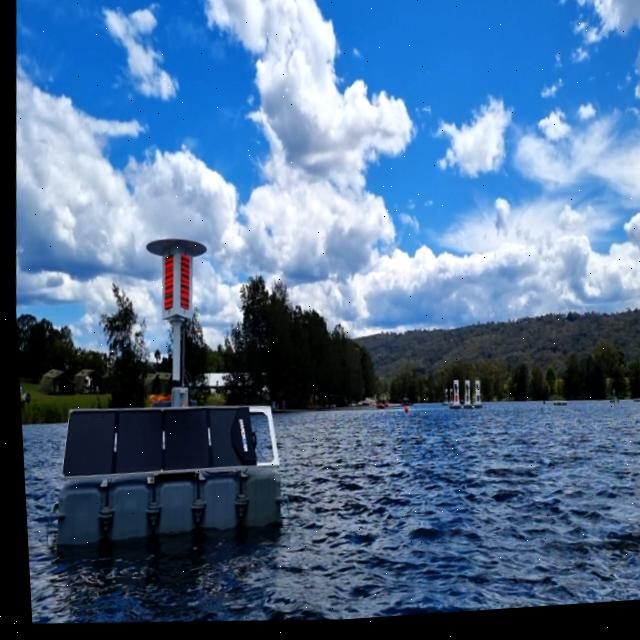led: (173, 254, 191, 318), (157, 256, 175, 314)
